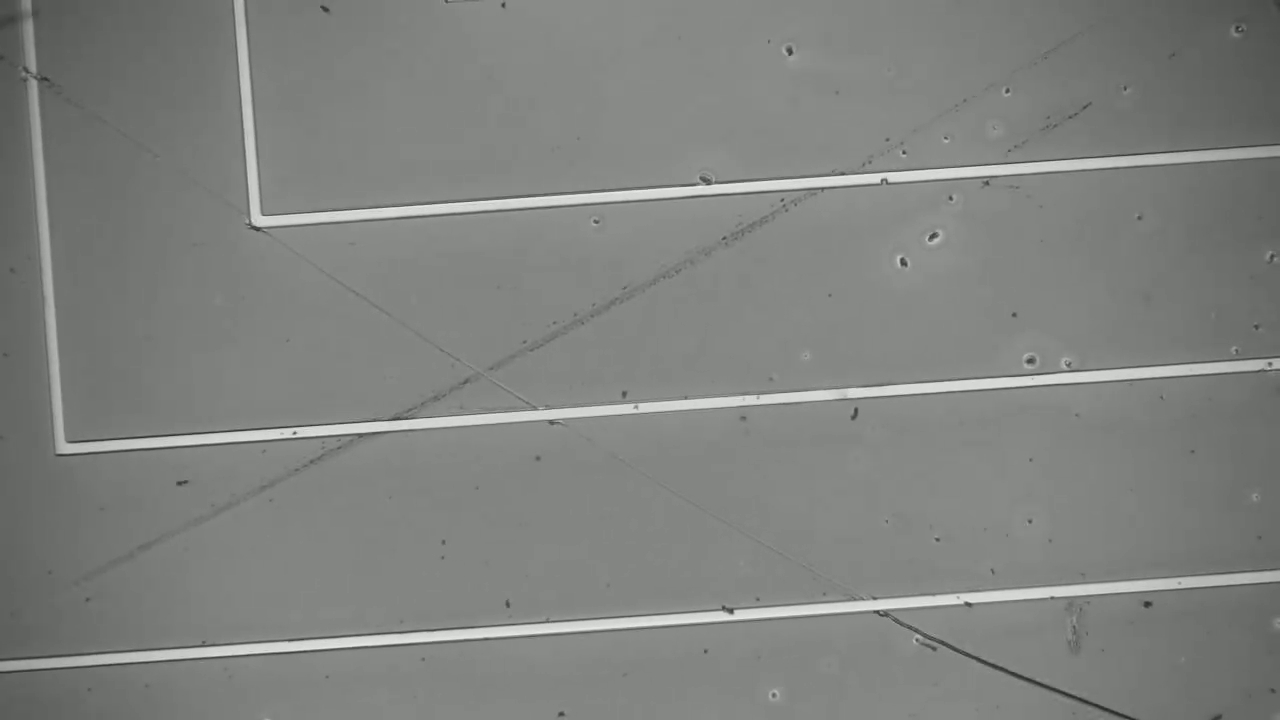edge_bite: (873, 162, 896, 190)
scratch: (76, 110, 949, 574), (257, 231, 856, 593), (23, 71, 245, 213), (886, 608, 1133, 720)
stains_enbedded: (713, 599, 744, 632)
